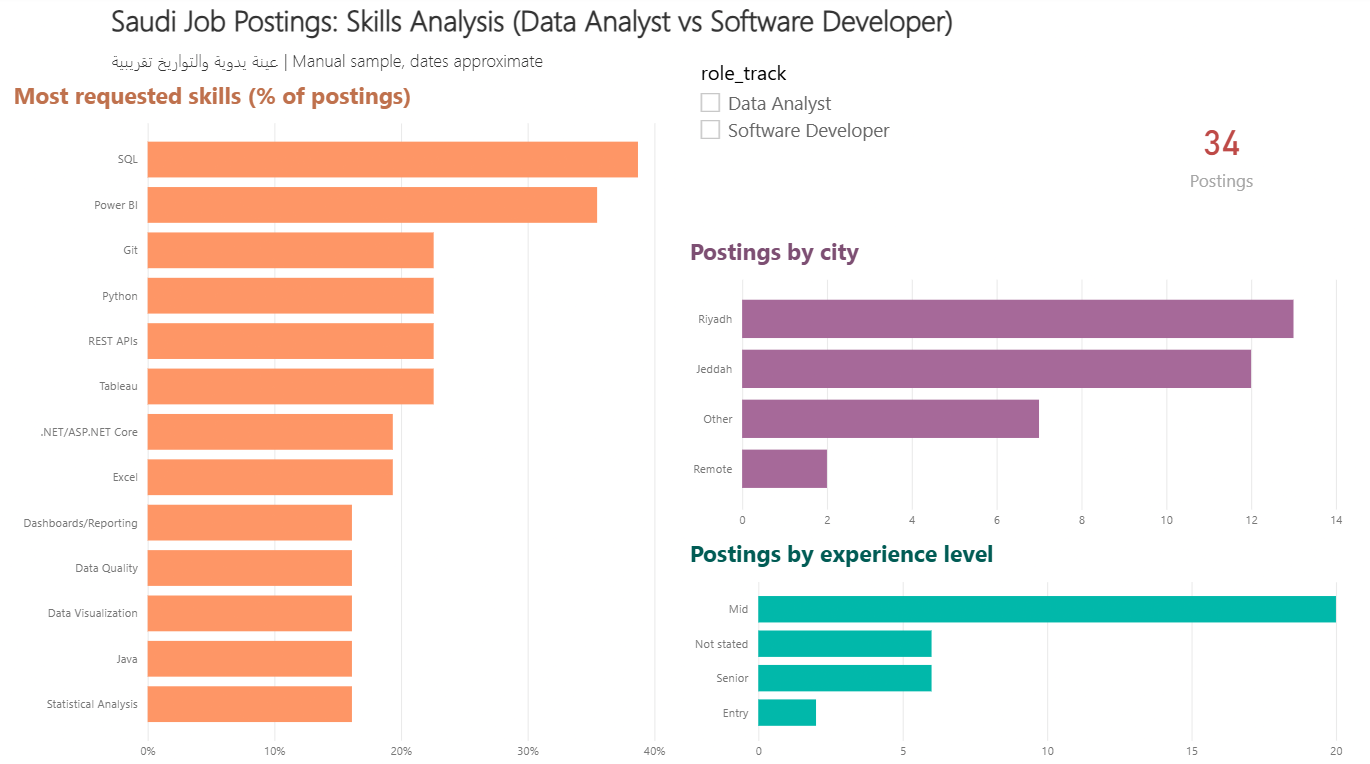

The dashboard page shown, as its layout file describes it:
{"tool":"powerbi","page":{"name":"Page 1","canvas":[1280,720],"ordinal":0},"visuals":[{"type":"clusteredBarChart","title":"Most requested skills (% of postings)","fields":{"Category":["skills_long.skill"],"Y":["skills_long.Skill %"]},"box":[9.3,77.6,617,642.6],"z":0},{"type":"slicer","fields":{"Values":["postings.role_track"]},"box":[640.2,54.6,296.3,145.2],"z":1},{"type":"clusteredBarChart","title":"Postings by city","fields":{"Category":["postings.city"],"Y":["postings.Postings"]},"box":[637.5,222.9,617,282.4],"z":2},{"type":"clusteredBarChart","title":"Postings by experience level","fields":{"Category":["postings.experience_level"],"Y":["postings.Postings"]},"box":[637.9,504,617,216.1],"z":3},{"type":"card","fields":{"Values":["postings.Postings"]},"box":[1041.1,91.8,192.9,108.1],"z":4},{"type":"textbox","box":[100,100,300,300],"z":5},{"type":"textbox","box":[99.9,0,1080.6,62.7],"z":6},{"type":"textbox","box":[99.9,44.2,1080.6,37.2],"z":7}]}

Visuals, with their boxes in screenshot pixels (x1, y1, x2, y2), scaled from the page's 1280x720 canvas onto the 1370x764 screenshot:
"Most requested skills (% of postings)" clusteredBarChart: BBox(10, 82, 670, 763)
slicer - postings.role_track: BBox(685, 58, 1002, 212)
"Postings by city" clusteredBarChart: BBox(682, 237, 1343, 536)
"Postings by experience level" clusteredBarChart: BBox(683, 535, 1343, 763)
card - postings.Postings: BBox(1114, 97, 1321, 212)
textbox: BBox(107, 106, 428, 424)
textbox: BBox(107, 0, 1264, 67)
textbox: BBox(107, 47, 1264, 86)
